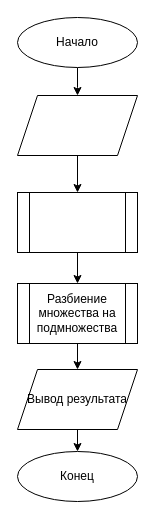
Some shapes in this 155 by 519 pixel diagram are drawn without their labels. The shapes that lost their labels are listed below. From the top down, each one's box as (x1, y1, x2, y2) in pixels, then its label:
(16, 94, 138, 156): Ввод A, b
(16, 192, 138, 252): Вычислить длину подмножеств
